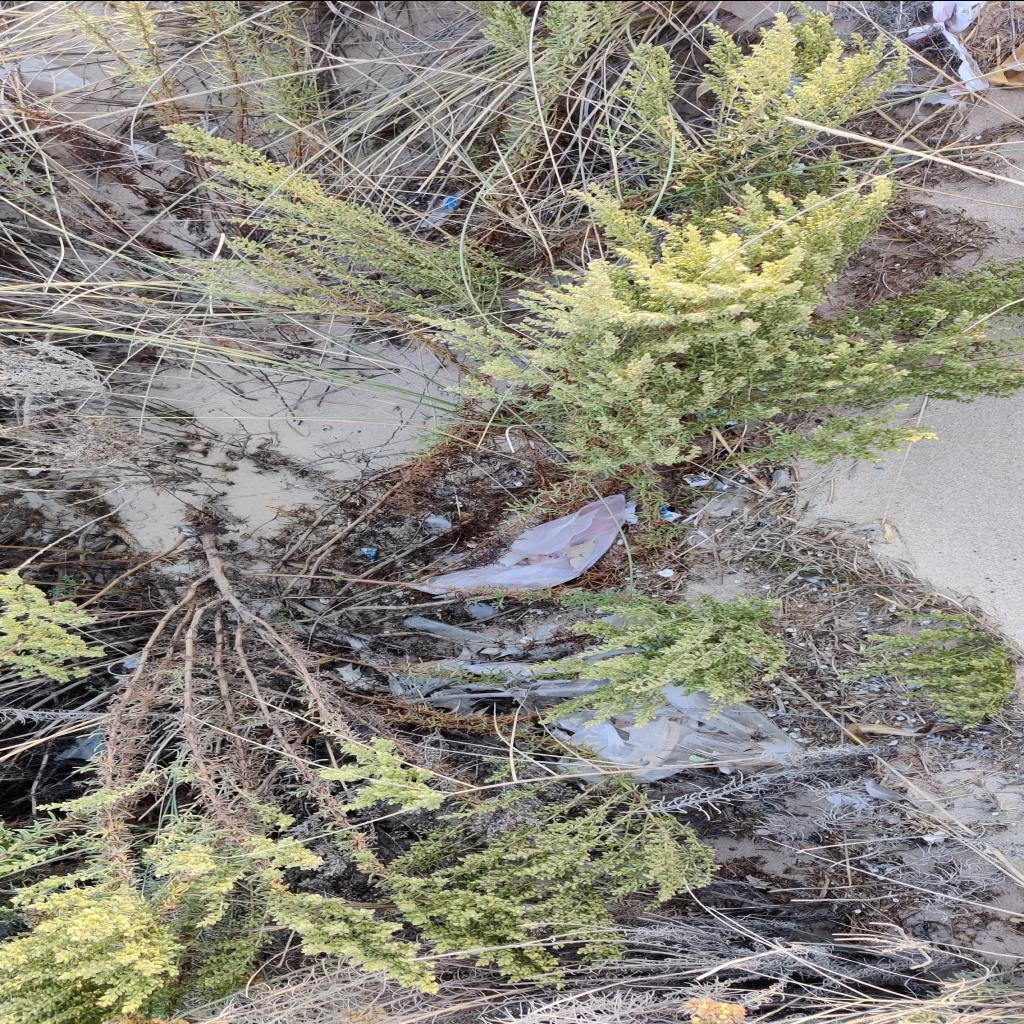Plastic film: (904, 2, 990, 96), (0, 55, 94, 117), (403, 615, 499, 651), (680, 473, 712, 486), (362, 546, 376, 562)
Unlabeled litter: (532, 678, 804, 784), (406, 494, 626, 598), (420, 192, 464, 227), (655, 500, 683, 520), (129, 142, 157, 156)
